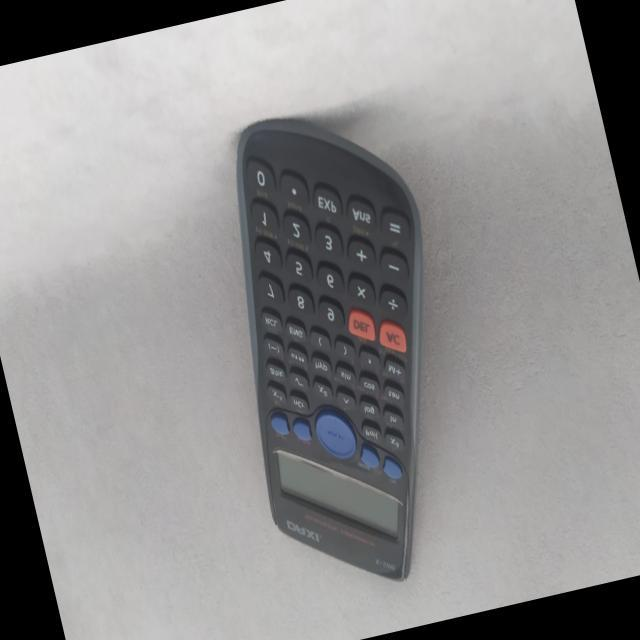Calculator: (187, 95, 500, 608)
